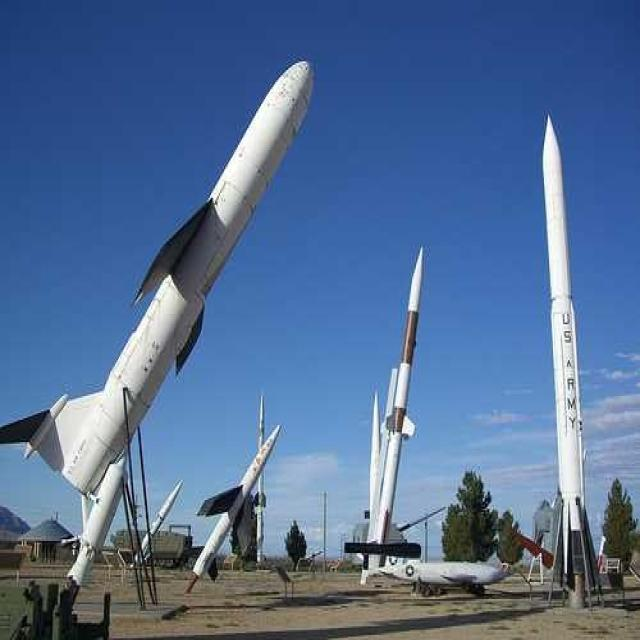missile: (8, 59, 314, 507), (539, 110, 607, 596), (362, 242, 428, 584), (179, 420, 283, 601), (132, 476, 188, 568)
